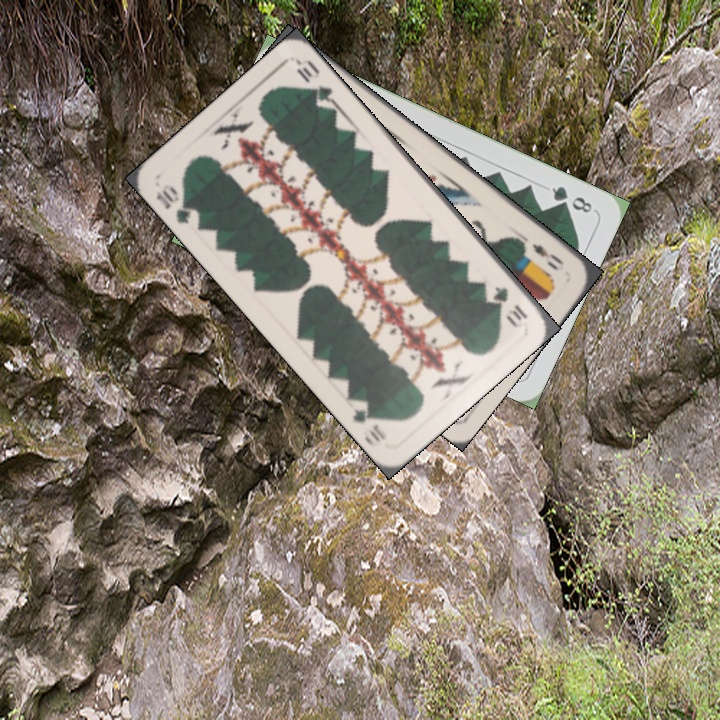EO: (528, 239, 567, 274)
G10: (152, 182, 203, 227), (488, 282, 531, 329)
G8: (548, 182, 598, 216)
